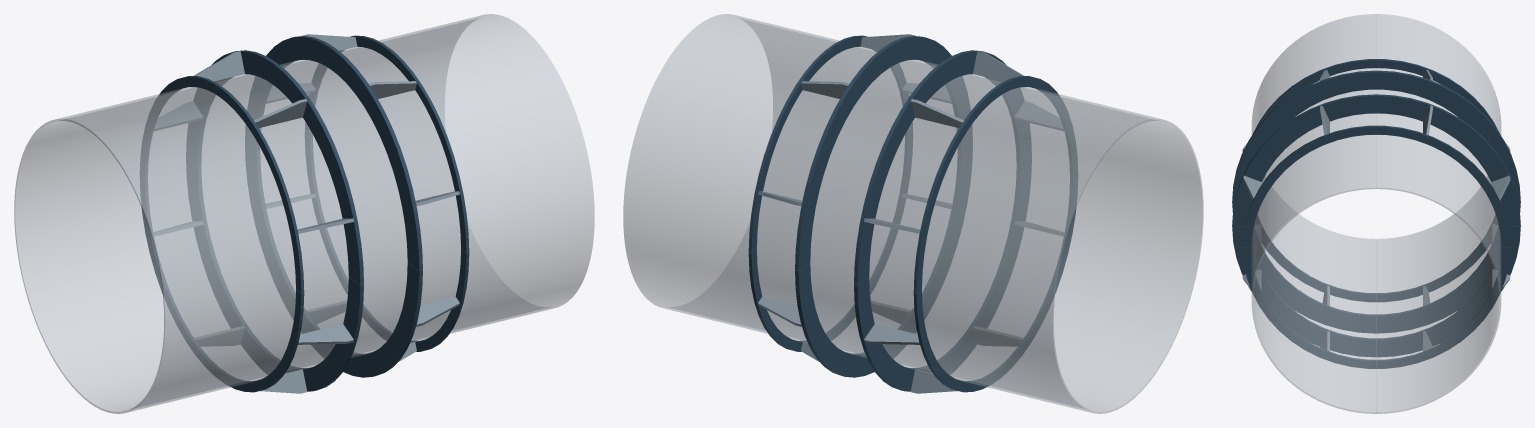
The model's file is TS-667.00.00-08-opora-dn1420-D1640.glb.
3 views of the same model, side by side, from view 1: azimuth 30°, elevation 25°; view 2: azimuth 150°, elevation 25°; view 3: azimuth 270°, elevation 25° (orthographic). The views are drawn at different scales.
Visible parts, largest first — view 1: truba, polukoltso_1, polukoltso_13, polukoltso_19, polukoltso_7, polukoltso_usil_12, polukoltso_usil_24, polukoltso_usil_18, polukoltso_usil_6, rebro_9, rebro_20, rebro_8 (+5 smaller); view 2: truba, polukoltso_1, polukoltso_13, polukoltso_19, polukoltso_7, polukoltso_usil_12, polukoltso_usil_24, polukoltso_usil_18, polukoltso_usil_6, rebro_10, rebro_23, rebro_11 (+5 smaller); view 3: truba, polukoltso_1, polukoltso_7, polukoltso_13, polukoltso_19, polukoltso_usil_6, polukoltso_usil_18, polukoltso_usil_24, polukoltso_usil_12.
Part boxes in pixels (<box>): truba: <box>14,14,594,413</box>; polukoltso_1: <box>245,36,422,270</box>; polukoltso_13: <box>245,144,422,377</box>; polukoltso_19: <box>186,158,363,391</box>; polukoltso_7: <box>186,50,363,285</box>; polukoltso_usil_12: <box>140,76,304,293</box>; polukoltso_usil_24: <box>140,176,304,392</box>; polukoltso_usil_18: <box>305,136,469,351</box>; polukoltso_usil_6: <box>305,35,469,252</box>; rebro_9: <box>194,51,244,81</box>; rebro_20: <box>298,324,353,344</box>; rebro_8: <box>154,101,203,130</box>; truba: <box>623,14,1203,413</box>; polukoltso_1: <box>795,36,972,270</box>; polukoltso_13: <box>795,144,972,377</box>; polukoltso_19: <box>854,158,1031,391</box>; polukoltso_7: <box>854,50,1031,285</box>; polukoltso_usil_12: <box>913,76,1077,293</box>; polukoltso_usil_24: <box>913,176,1077,392</box>; polukoltso_usil_18: <box>748,136,912,351</box>; polukoltso_usil_6: <box>748,35,912,252</box>; rebro_10: <box>973,51,1023,81</box>; rebro_23: <box>864,324,919,344</box>; rebro_11: <box>1014,101,1063,130</box>; truba: <box>1251,14,1501,413</box>; polukoltso_1: <box>1232,94,1520,226</box>; polukoltso_7: <box>1232,70,1520,202</box>; polukoltso_13: <box>1232,226,1520,357</box>; polukoltso_19: <box>1232,202,1520,333</box>; polukoltso_usil_6: <box>1242,125,1510,247</box>; polukoltso_usil_18: <box>1242,247,1510,368</box>; polukoltso_usil_24: <box>1255,215,1497,302</box>; polukoltso_usil_12: <box>1252,59,1500,134</box>.
Size of the model in its own units: 2332 by 1640 by 1640.
